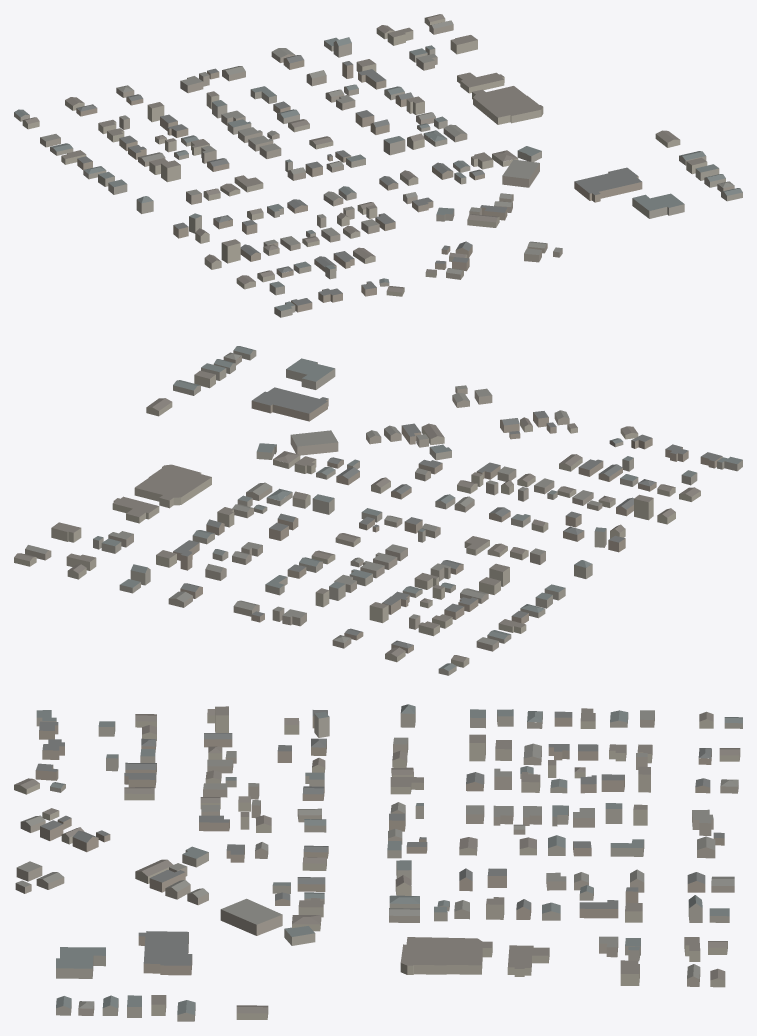
File: 2c34fd87edaf-chunk-1199_11844.glb
3 renders of one model, top to bottom at view 1: azimuth 30°, elevation 25°; view 2: azimuth 150°, elevation 25°; view 3: azimuth 270°, elevation 25°, orthographic. The views are drawn at different scales.
Parts seen in each view (by area): view 1: building_54459, building_11376, building_165496, building_117481, building_120560; view 2: building_54459, building_11376, building_165496, building_117481, building_120560; view 3: building_54459, building_11376, building_117481, building_165496, building_120560, building_31593, building_118819, building_146969, building_91950.
Boxes of the visible parts, x1,y1,x2,y2 form: building_54459: (472,86,543,124); building_11376: (574,167,642,202); building_165496: (632,193,684,218); building_117481: (502,159,539,187); building_120560: (457,72,504,93); building_54459: (134,464,211,508); building_11376: (251,387,328,421); building_165496: (286,358,335,389); building_117481: (290,430,338,455); building_120560: (112,496,159,523); building_54459: (400,937,492,974); building_11376: (138,931,192,975); building_117481: (220,898,282,935); building_165496: (56,947,105,978); building_120560: (507,945,549,976); building_31593: (579,900,618,918); building_118819: (390,777,423,794); building_146969: (149,870,185,892); building_91950: (610,839,644,856).
Size of the model in its own units: 389 by 13.13 by 392.
